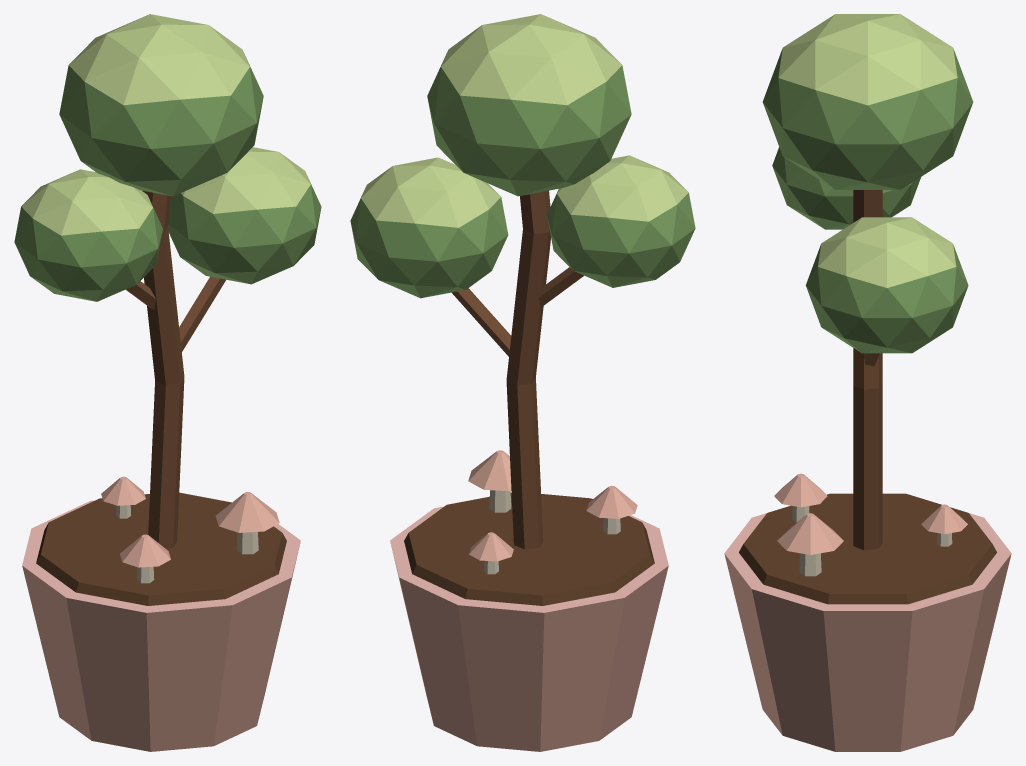
Rendered from Kit_Calm_Hint_Sapling.glb.
3 renders of one model, left to right at view 1: azimuth 30°, elevation 25°; view 2: azimuth 150°, elevation 25°; view 3: azimuth 270°, elevation 25°, orthographic.
Parts seen in each view (by area): view 1: EX_HintSapling_Leaves, EX_HintSapling_Stone, EX_HintSapling_Bark; view 2: EX_HintSapling_Leaves, EX_HintSapling_Stone, EX_HintSapling_Bark; view 3: EX_HintSapling_Leaves, EX_HintSapling_Stone, EX_HintSapling_Bark.
Boxes of the visible parts, box(x1,y1,x2,y2) form: EX_HintSapling_Leaves: box(14, 14, 321, 301); EX_HintSapling_Stone: box(22, 476, 300, 751); EX_HintSapling_Bark: box(36, 190, 286, 605); EX_HintSapling_Leaves: box(350, 14, 695, 298); EX_HintSapling_Stone: box(390, 450, 668, 751); EX_HintSapling_Bark: box(404, 190, 654, 605); EX_HintSapling_Leaves: box(762, 14, 973, 353); EX_HintSapling_Stone: box(724, 473, 1011, 751); EX_HintSapling_Bark: box(739, 190, 996, 604).
Bounding box in the file's own units: 0.5504 × 1.19 × 0.45.
